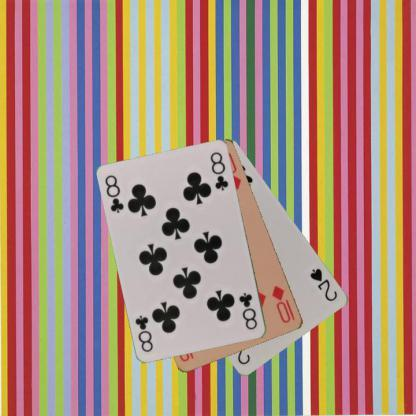10d: (270, 282, 297, 324)
2s: (308, 264, 340, 302)
8c: (102, 172, 126, 215), (236, 290, 259, 331)
